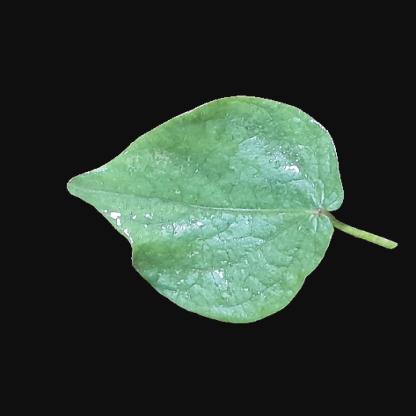healthy: (147, 132, 325, 268), (202, 269, 284, 318), (92, 162, 144, 210)
